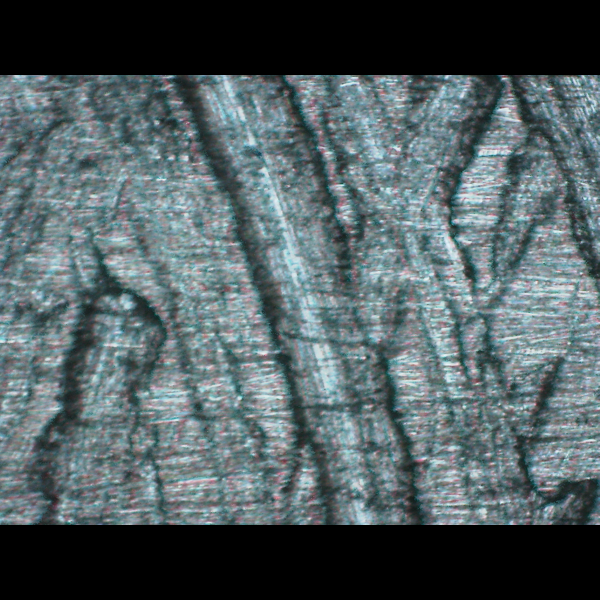d: (168, 78, 600, 525), (0, 239, 200, 493)
